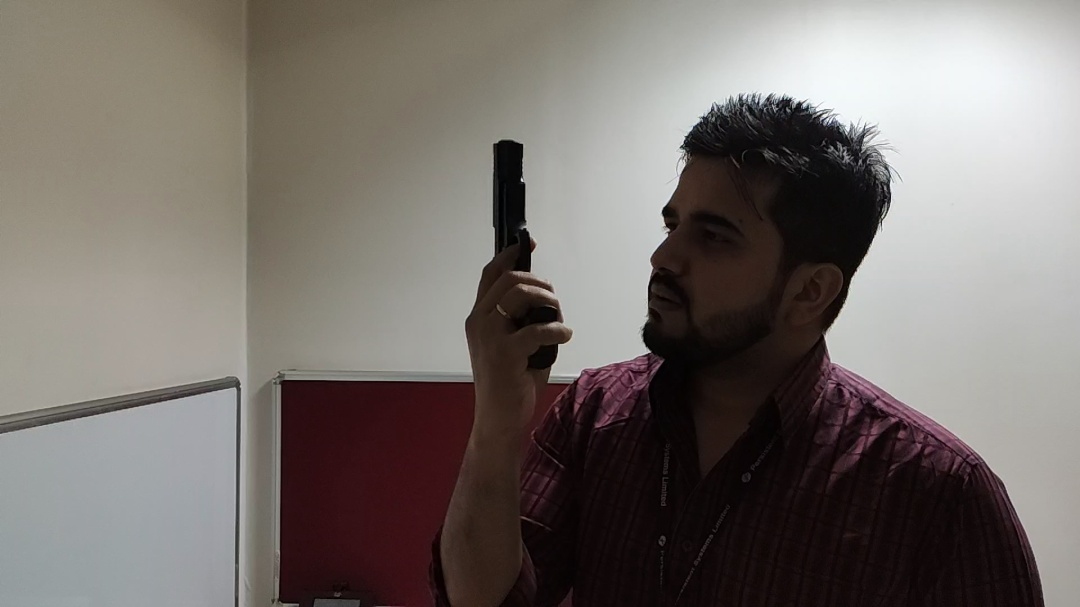gun: (481, 136, 539, 268)
